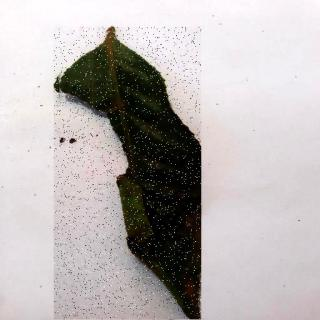Algal Leaf: (55, 28, 202, 320)
